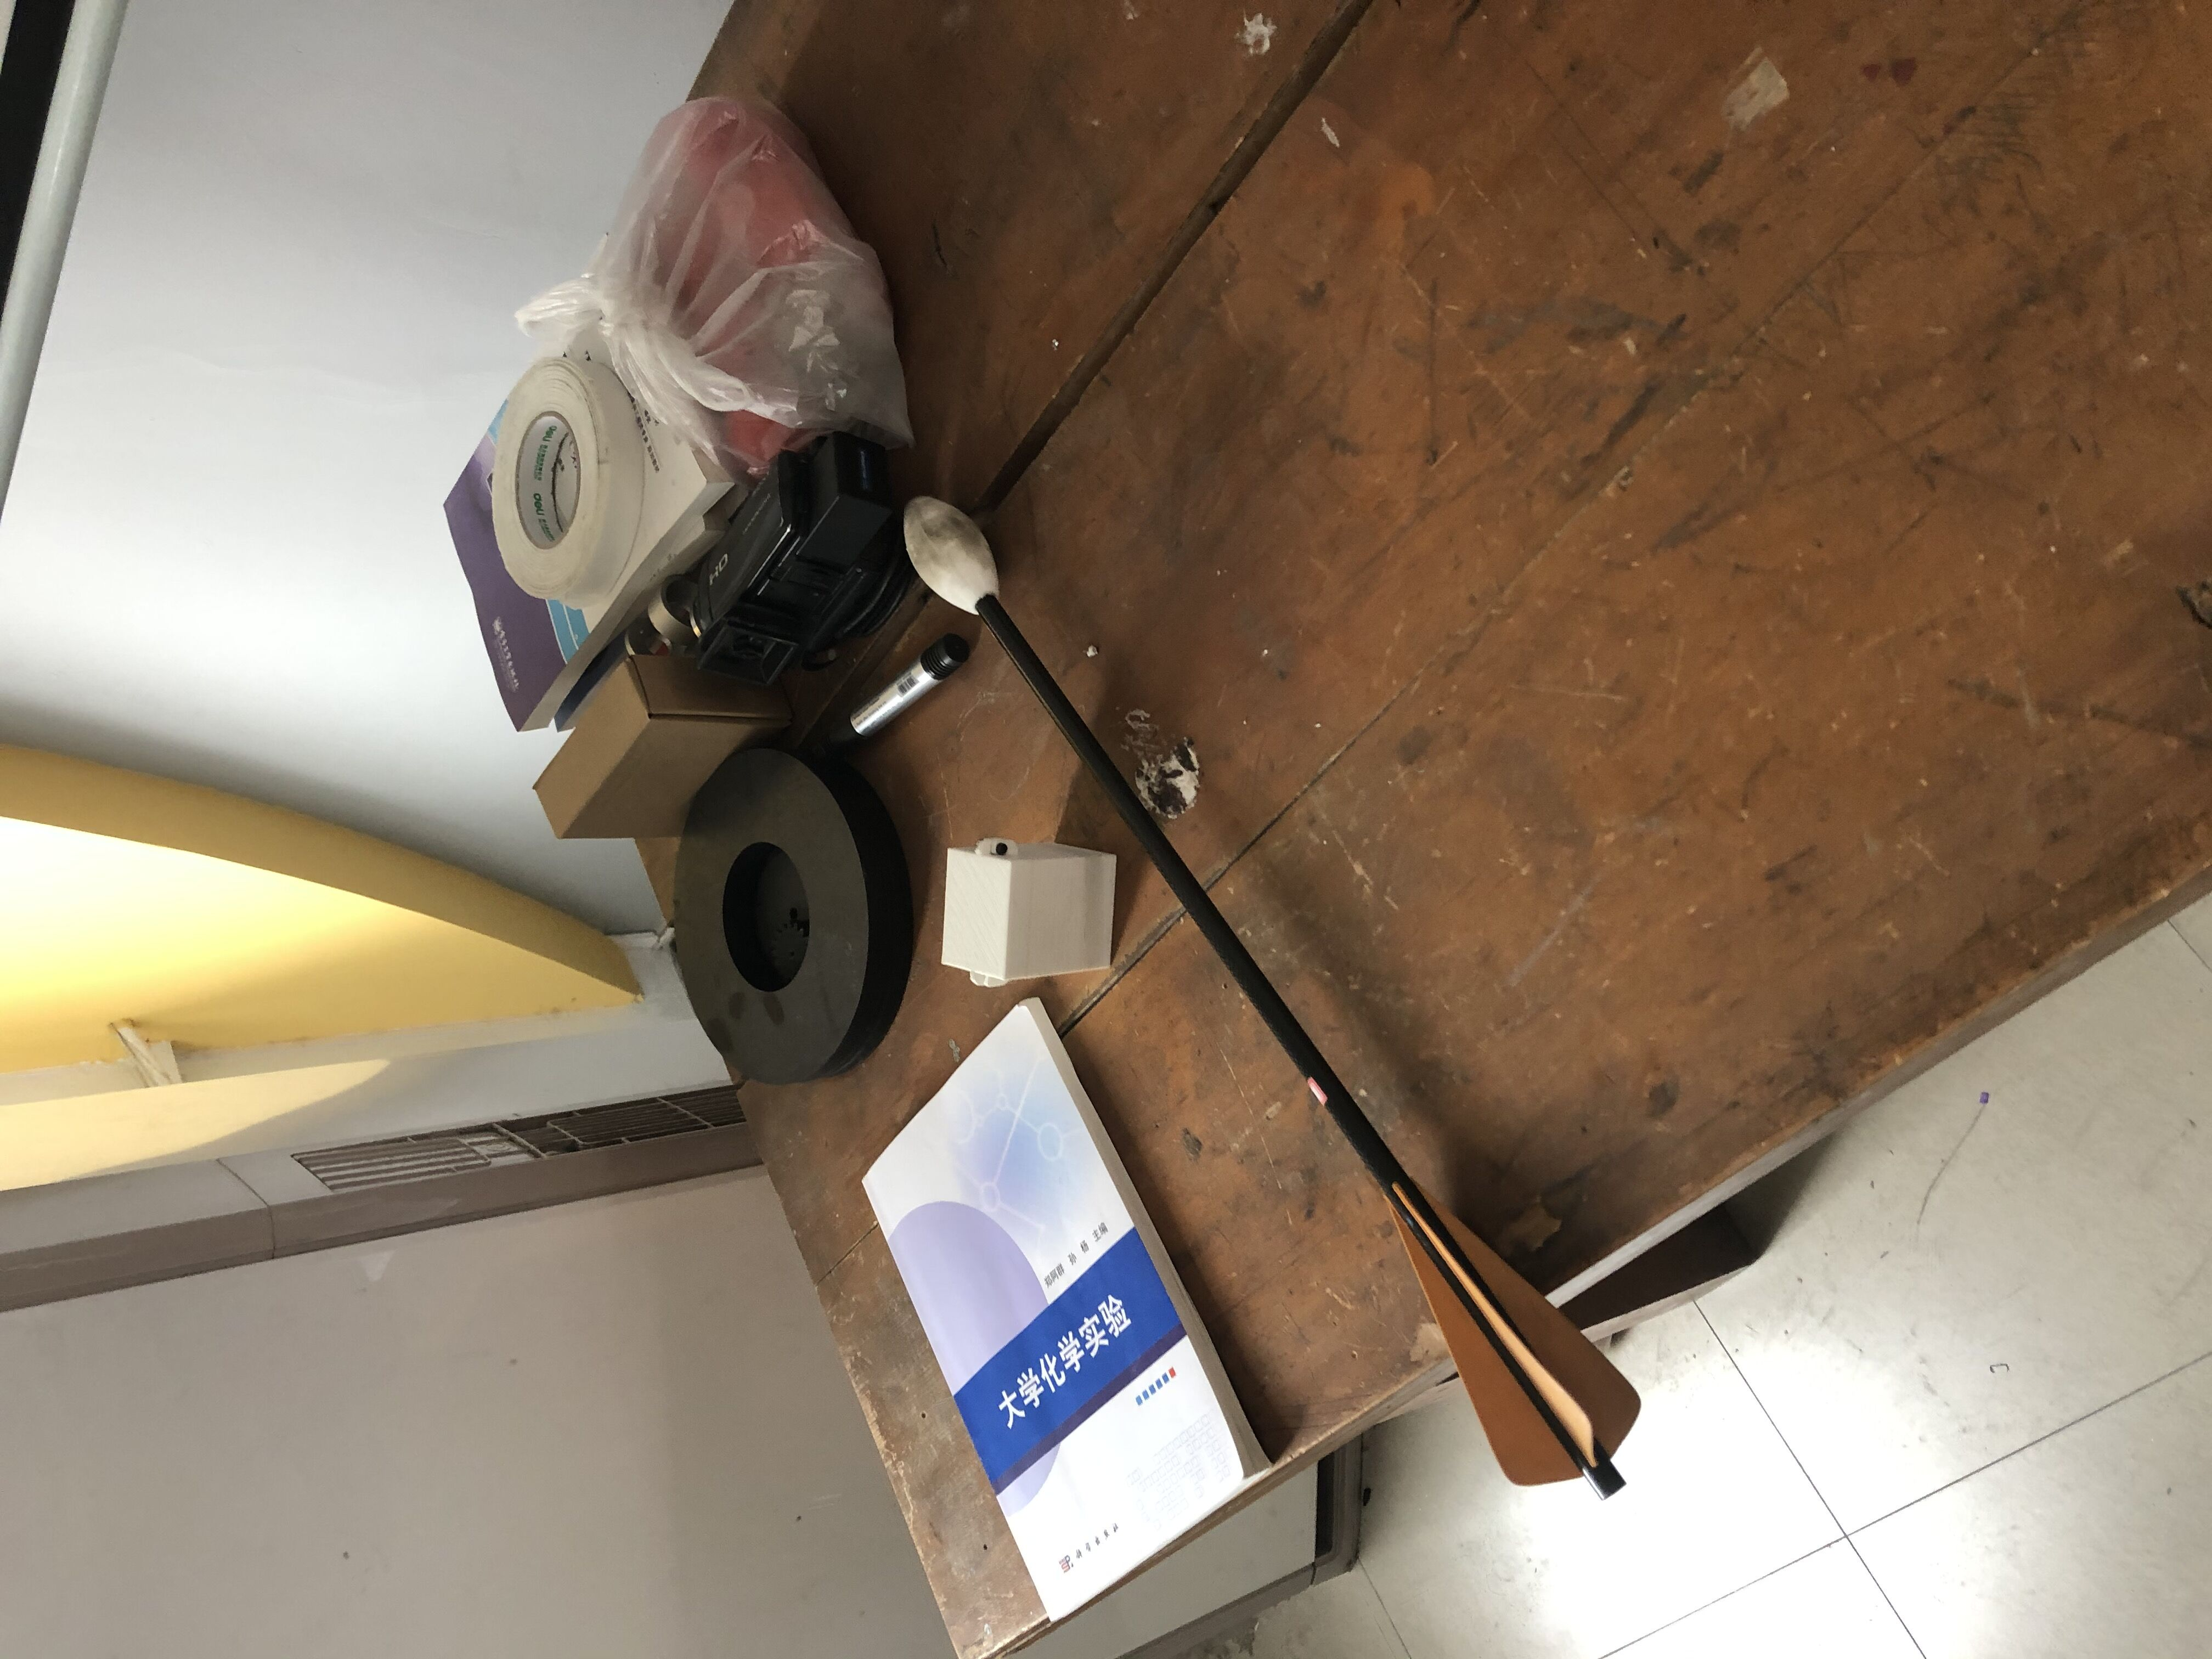arrow: (902, 490, 1639, 1504)
arrowFront: (900, 488, 1001, 617)
